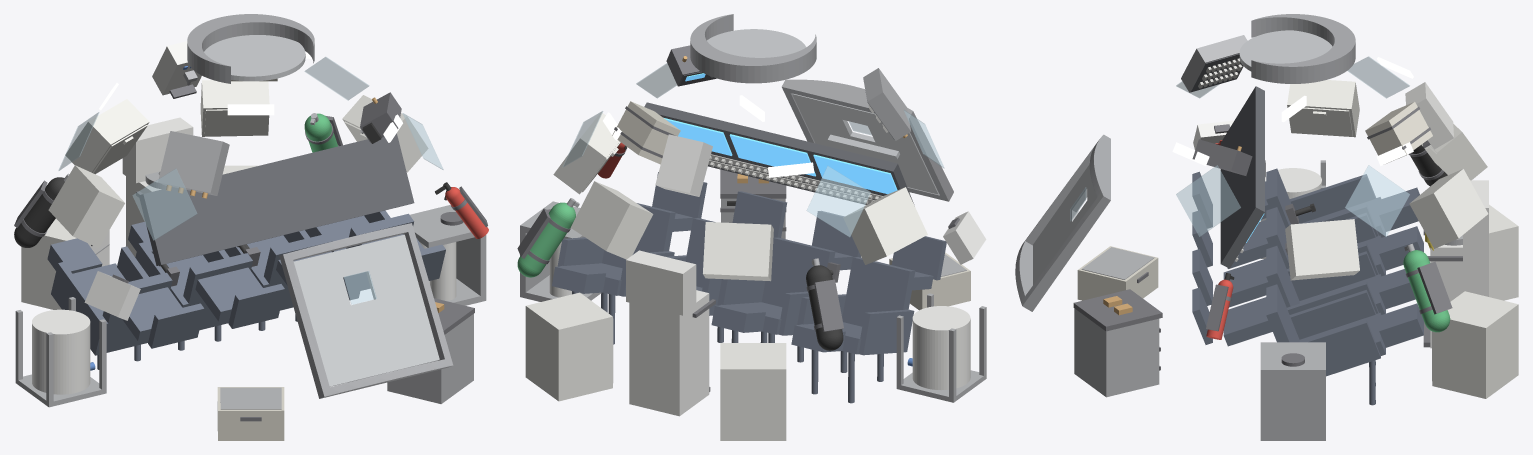
Rendered from cmd06_orion_capsule_cutaway.glb.
3 renders of one model, left to right at view 1: azimuth 30°, elevation 25°; view 2: azimuth 150°, elevation 25°; view 3: azimuth 270°, elevation 25°, orthographic.
Visible parts, largest first — view 1: main_console, hatch_door_1, stowage_lockers, seat_1, seat_2, window_glass_inner, hatch_tunnel_1, eq11_1_tank, hatch_tunnel_2, eq08_1_frame, hatch_door_2, eq06_1_enclosure (+18 smaller); view 2: stowage_lockers, seat_1, seat_2, eq22_1_body, eq21_1_body, eq21_2_body, seat_4, hatch_door_1, window_glass_inner, main_console, eq11_1_tank, main_console_screens (+20 smaller); view 3: stowage_lockers, seat_4, eq21_1_body, seat_3, window_glass_inner, eq08_1_frame, seat_1, eq00_1_case, main_console, hatch_tunnel_1, seat_2, hatch_tunnel_2 (+21 smaller).
Boxes of the visible parts, box(x1,y1,x2,y2) form: main_console: box(139, 133, 414, 265); hatch_door_1: box(294, 234, 439, 386); stowage_lockers: box(48, 80, 428, 247); seat_1: box(47, 238, 204, 369); seat_2: box(128, 222, 284, 350); window_glass_inner: box(58, 57, 443, 304); hatch_tunnel_1: box(279, 223, 453, 398); eq11_1_tank: box(32, 309, 90, 394); hatch_tunnel_2: box(187, 14, 314, 83); eq08_1_frame: box(410, 205, 486, 305); hatch_door_2: box(204, 35, 305, 81); eq06_1_enclosure: box(158, 131, 229, 195); stowage_lockers: box(553, 112, 927, 281); seat_1: box(791, 236, 946, 403); seat_2: box(711, 211, 860, 362); eq22_1_body: box(629, 290, 709, 416); eq21_1_body: box(525, 292, 612, 401); eq21_2_body: box(720, 343, 786, 440); seat_4: box(552, 172, 707, 344); hatch_door_1: box(792, 93, 938, 194); window_glass_inner: box(563, 63, 944, 237); main_console: box(644, 102, 914, 204); eq11_1_tank: box(912, 306, 970, 390); main_console_screens: box(663, 117, 897, 194); stowage_lockers: box(1285, 80, 1488, 280); seat_4: box(1192, 284, 1423, 405); eq21_1_body: box(1432, 291, 1518, 398); seat_3: box(1192, 246, 1415, 364); window_glass_inner: box(1070, 56, 1409, 236); eq08_1_frame: box(1260, 342, 1325, 440); seat_1: box(1192, 168, 1419, 237); eq00_1_case: box(1074, 308, 1159, 397); main_console: box(1220, 86, 1264, 268); hatch_tunnel_1: box(1015, 134, 1110, 311); seat_2: box(1192, 207, 1423, 276); hatch_tunnel_2: box(1251, 14, 1355, 83).
Bounding box in the file's own units: 3.8 × 2.51 × 3.86.
